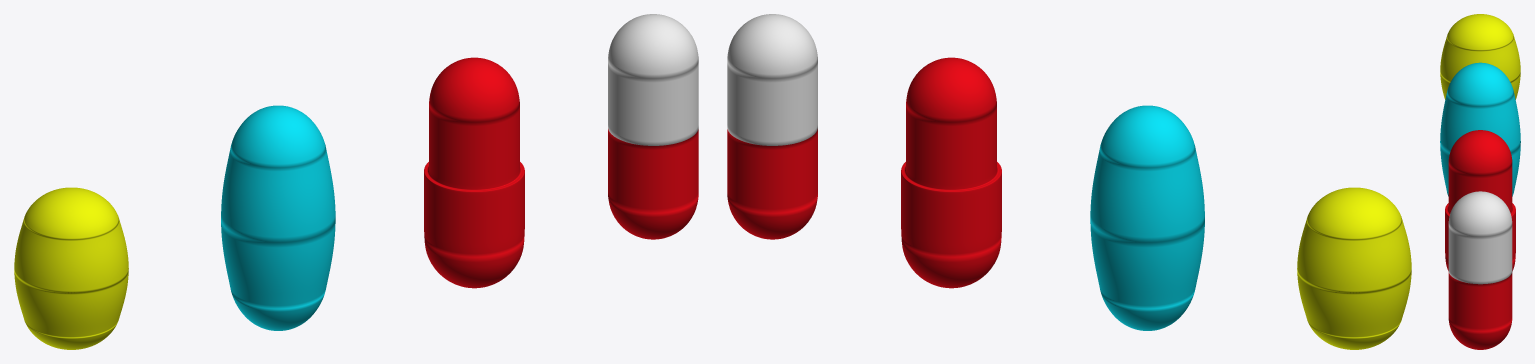
The model's file is tutorial_pills.fbx.
3 renders of one model, left to right at view 1: azimuth 30°, elevation 25°; view 2: azimuth 150°, elevation 25°; view 3: azimuth 270°, elevation 25°, orthographic. The views are drawn at different scales.
Parts seen in each view (by area): view 1: Cylinder.002, Cylinder, Cylinder.001, Cylinder.003; view 2: Cylinder.002, Cylinder, Cylinder.001, Cylinder.003; view 3: Cylinder.001, Cylinder.002, Cylinder, Cylinder.003.
Part boxes in pixels (x1=…): Cylinder.002: x1=221, y1=105, x2=335, y2=330; Cylinder: x1=424, y1=57, x2=524, y2=288; Cylinder.001: x1=608, y1=14, x2=698, y2=239; Cylinder.003: x1=14, y1=187, x2=128, y2=349; Cylinder.002: x1=1090, y1=105, x2=1204, y2=330; Cylinder: x1=901, y1=57, x2=1001, y2=288; Cylinder.001: x1=727, y1=14, x2=817, y2=239; Cylinder.003: x1=1297, y1=187, x2=1411, y2=349; Cylinder.001: x1=1448, y1=191, x2=1512, y2=349; Cylinder.002: x1=1440, y1=62, x2=1520, y2=196; Cylinder: x1=1445, y1=130, x2=1515, y2=271; Cylinder.003: x1=1440, y1=14, x2=1520, y2=99.
Bounding box in the file's own units: 1693 × 536 × 251.
